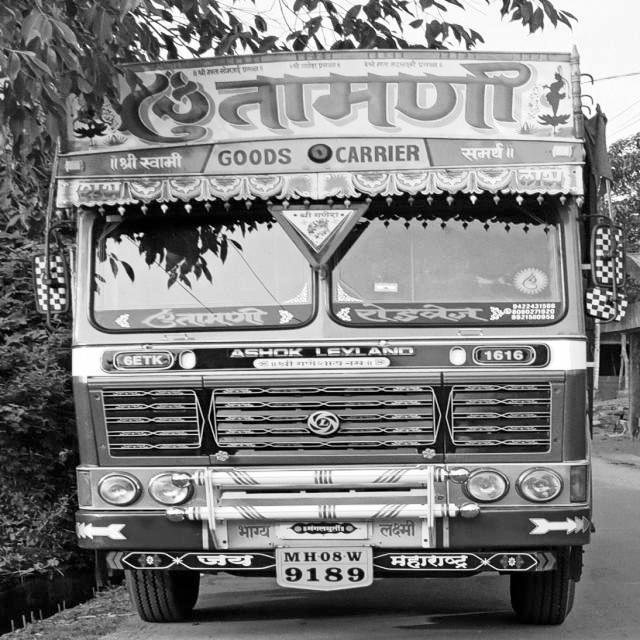HCV: (49, 52, 599, 630)
